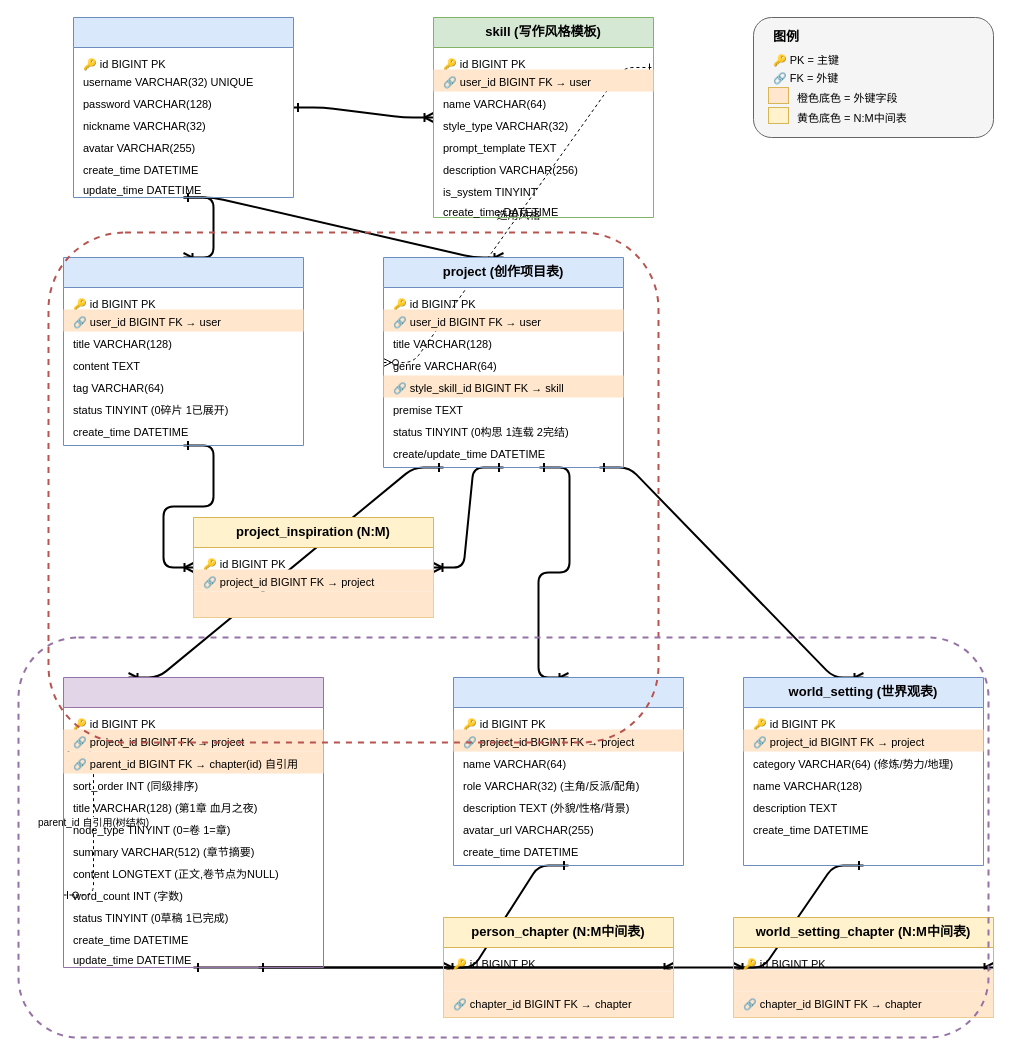
The diagram is 1020 pixels wide and 1056 high, and some of its shapes have lost their labels. The box of each missing label's shape, as (x1, y1, x2, y2) in pixels:
chapter (章节表, 自引用树): (62, 676, 324, 968)
inspiration (灵感表): (62, 256, 304, 446)
person (人物表): (452, 676, 684, 866)
user (用户表): (72, 16, 294, 198)
创作蓝图: (17, 636, 989, 1038)
核心业务: (47, 231, 659, 743)
🔗 inspiration_id BIGINT FK → inspiration: (193, 591, 433, 617)
🔗 person_id BIGINT FK → person: (443, 969, 673, 991)
🔗 setting_id BIGINT FK → world_setting: (733, 969, 993, 991)
